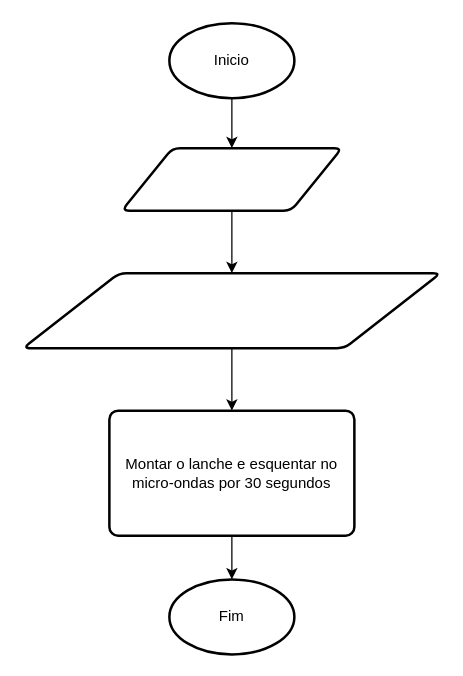
Image size: 463x676. Some labels were removed from this diagram. Here are the shapes that lost their labels. From the top down, the centre of each, then its label:
At point (231, 178): "Pegar uma fatia de pão".
At point (231, 310): "Pegar uma fatia de queijo e uma de presunto".
